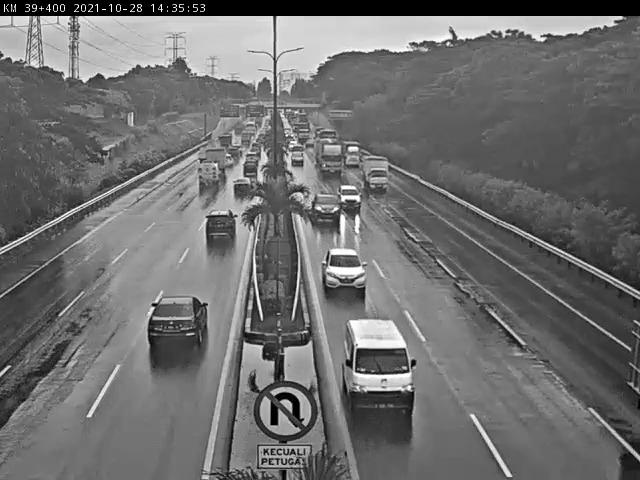big truck: (315, 141, 349, 183)
car: (335, 312, 422, 417), (142, 292, 214, 356), (318, 242, 371, 293), (202, 207, 238, 246), (312, 187, 342, 229), (339, 174, 364, 213), (226, 172, 257, 199), (288, 150, 310, 172)
small truck: (365, 154, 390, 197), (196, 160, 223, 191), (345, 137, 364, 170)
